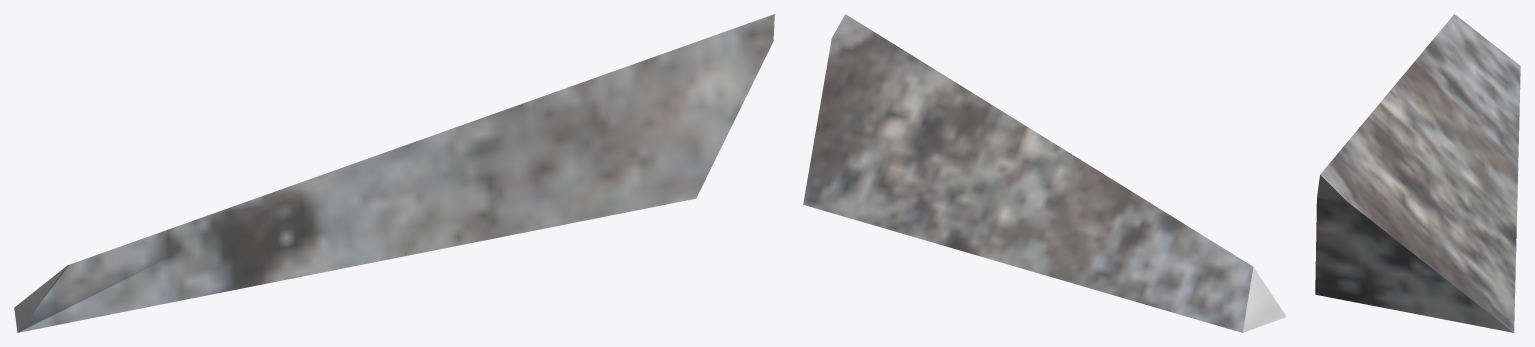
File: Asteroid_Large_001_02_009_03_016.fbx
The picture shows the model from 3 angles, left to right: view 1: azimuth 30°, elevation 25°; view 2: azimuth 150°, elevation 25°; view 3: azimuth 270°, elevation 25°; orthographic projection. The views are drawn at different scales.
Visible parts, largest first — view 1: Asteroid_Large_001_02_009_03_016; view 2: Asteroid_Large_001_02_009_03_016; view 3: Asteroid_Large_001_02_009_03_016.
Boxes of the visible parts, left/top/right/bottom form: Asteroid_Large_001_02_009_03_016: left=14, top=14, right=774, bottom=332; Asteroid_Large_001_02_009_03_016: left=803, top=14, right=1286, bottom=332; Asteroid_Large_001_02_009_03_016: left=1315, top=14, right=1520, bottom=332.
Bounding box in the file's own units: 4.14 × 1.2 × 1.1.
